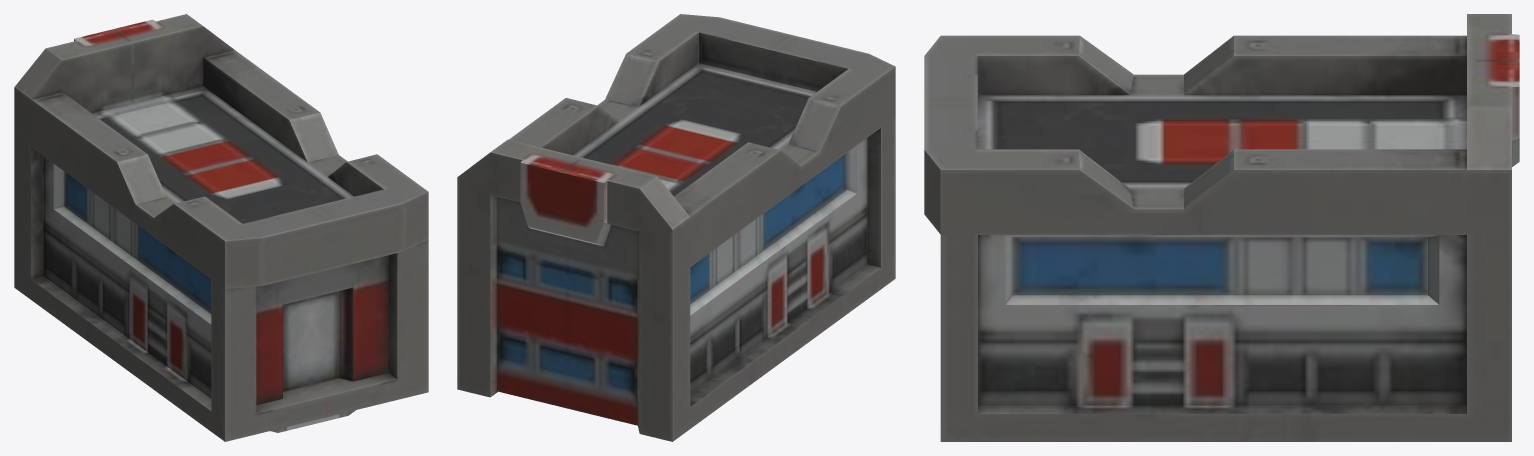
File: Part - Main form 01-CERhT3_I.glb
3 views of the same model, side by side, from view 1: azimuth 30°, elevation 25°; view 2: azimuth 150°, elevation 25°; view 3: azimuth 270°, elevation 25° (orthographic). The views are drawn at different scales.
Parts seen in each view (by area): view 1: Main_form_01; view 2: Main_form_01; view 3: Main_form_01.
Boxes of the visible parts, <box> form: Main_form_01: <box>14,14,428,441</box>; Main_form_01: <box>457,14,895,441</box>; Main_form_01: <box>924,14,1519,441</box>.
Size of the model in its own units: 1.39 by 1.63 by 2.61.
Materials: 1 (1 with a texture image).
